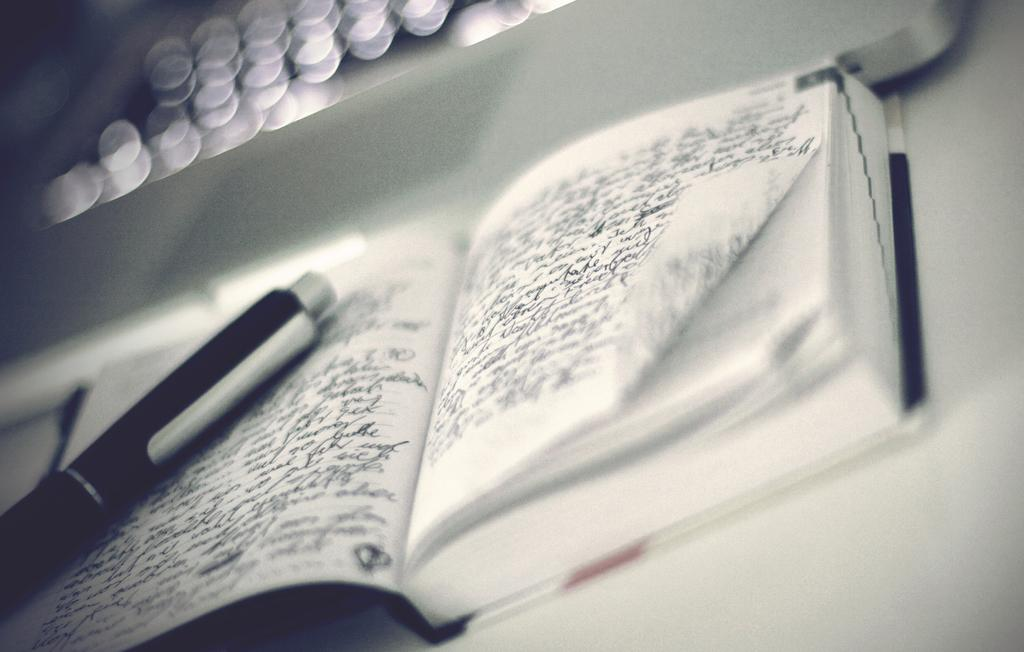pen: (0, 272, 335, 612)
